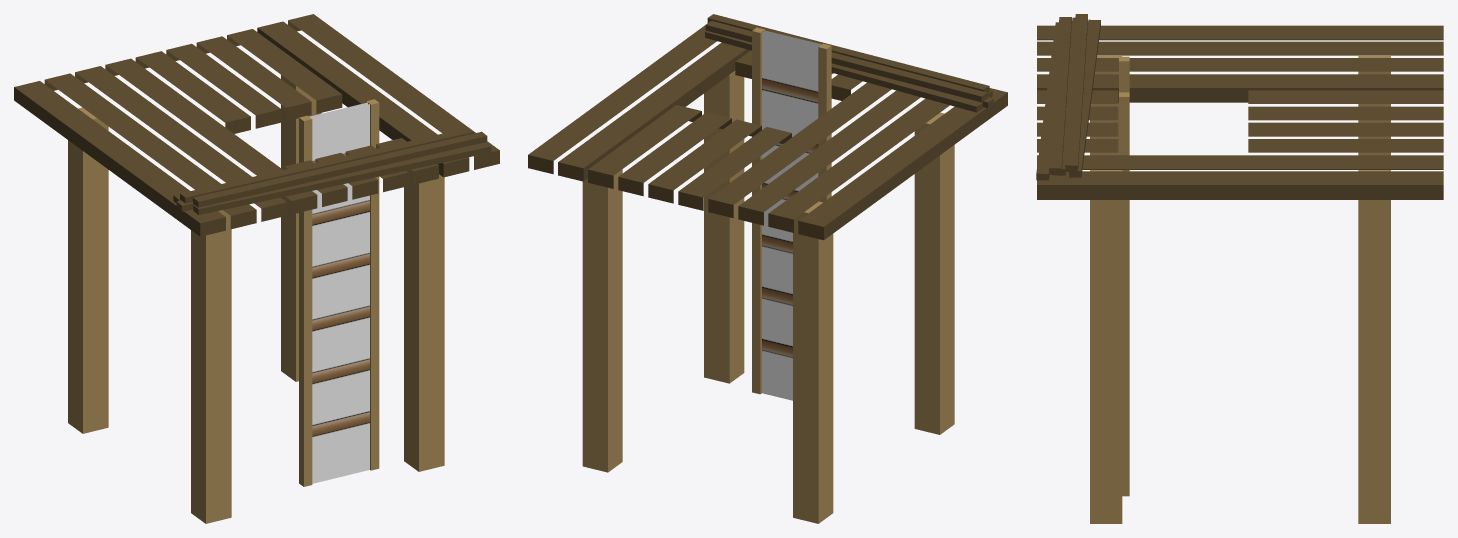
File: Prop_GuardTowerConstruction_Mod_01.fbx
3 views of the same model, side by side, from view 1: azimuth 30°, elevation 25°; view 2: azimuth 150°, elevation 25°; view 3: azimuth 270°, elevation 25° (orthographic). The views are drawn at different scales.
Visible parts, largest first — view 1: Supports, Floor, Ladders, Planks; view 2: Supports, Floor, Ladders, Planks; view 3: Floor, Supports, Planks.
Boxes of the visible parts, left/top/right/bottom form: Supports: left=68, top=75, right=444, bottom=523; Floor: left=14, top=14, right=499, bottom=236; Ladders: left=309, top=102, right=369, bottom=483; Planks: left=173, top=127, right=491, bottom=214; Supports: left=582, top=27, right=954, bottom=523; Floor: left=528, top=25, right=1007, bottom=240; Ladders: left=762, top=30, right=821, bottom=400; Planks: left=705, top=14, right=993, bottom=112; Floor: left=1037, top=25, right=1443, bottom=199; Supports: left=1090, top=56, right=1390, bottom=523; Planks: left=1036, top=14, right=1100, bottom=180.
Size of the model in its own units: 5.06 by 5.86 by 5.41.
